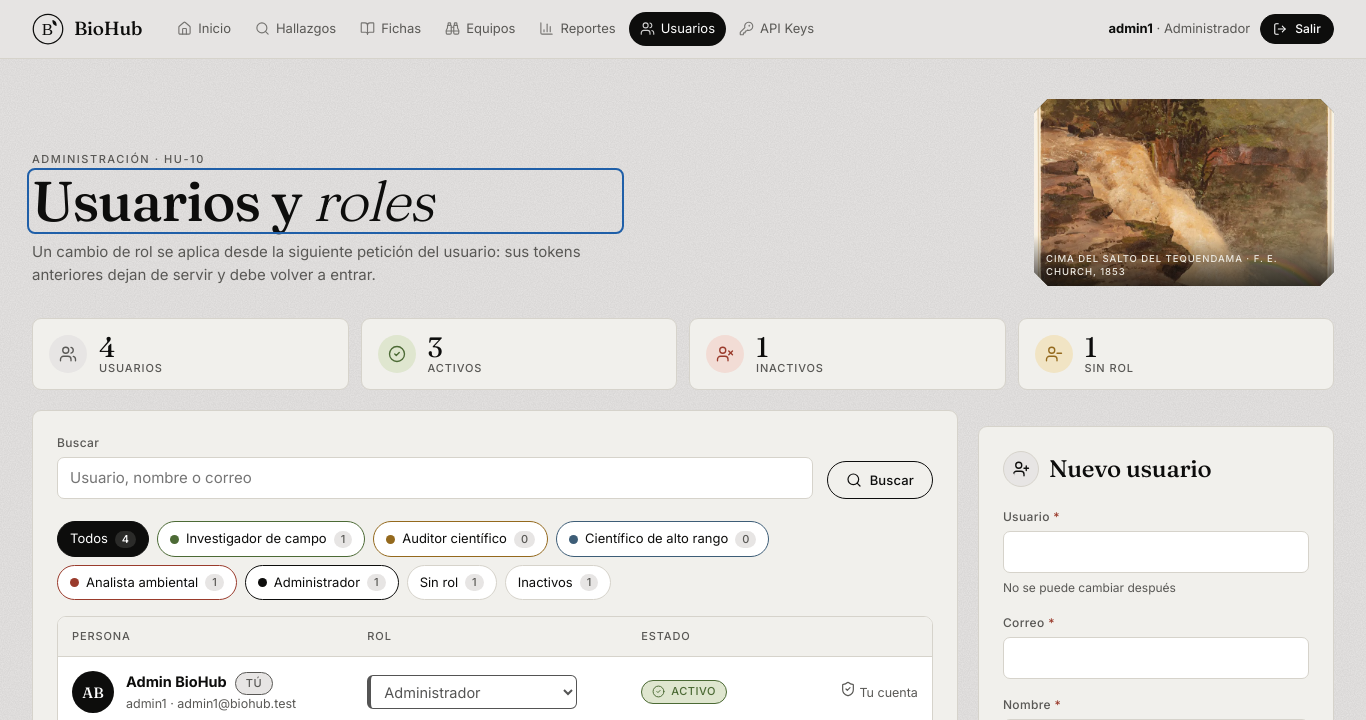
Test: Usuarios y roles (HU-10) › los filtros muestran solo los inactivos o solo un rol
Click the button "Inactivos 1": [558, 583] box [505, 565, 611, 600]
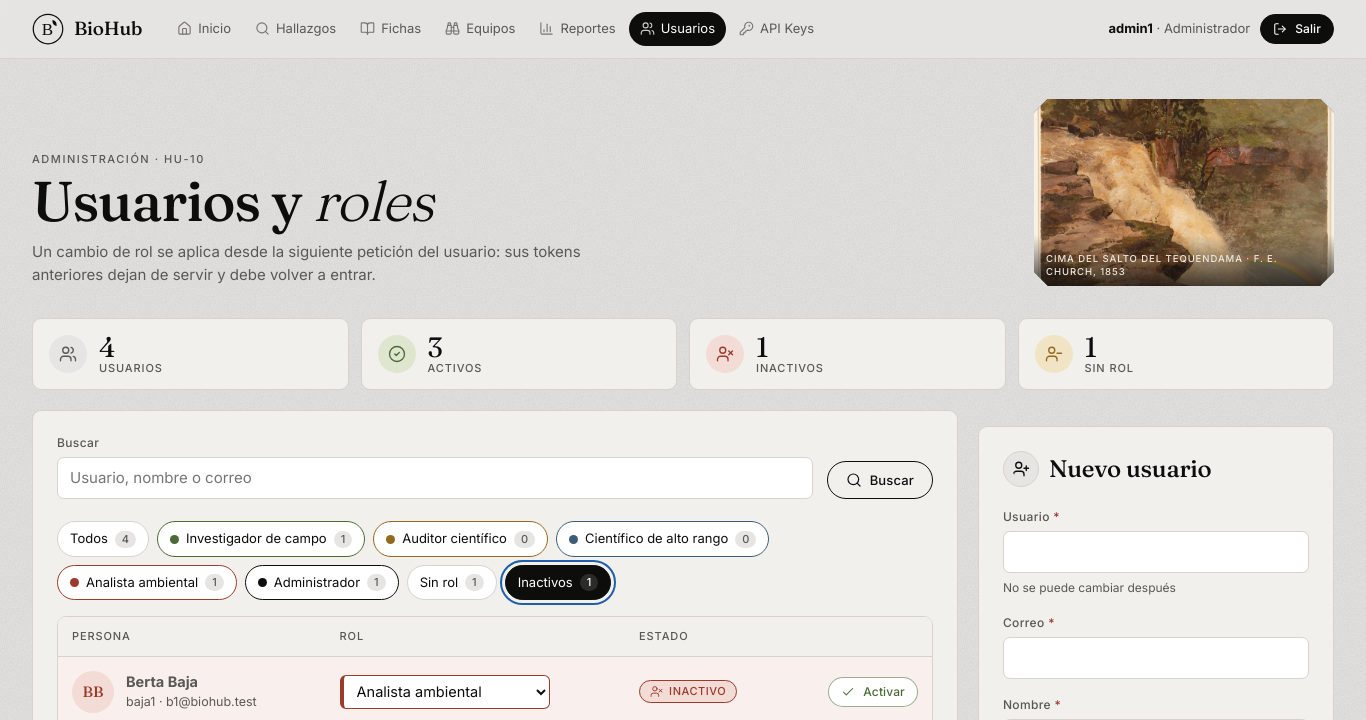
Expected: the text "investigador1 ·" is not shown
Expected: the button "Inactivos 1" is pressed, [505, 565, 611, 600]
Click the button "Sin rol 1": [452, 583] box [407, 565, 497, 600]
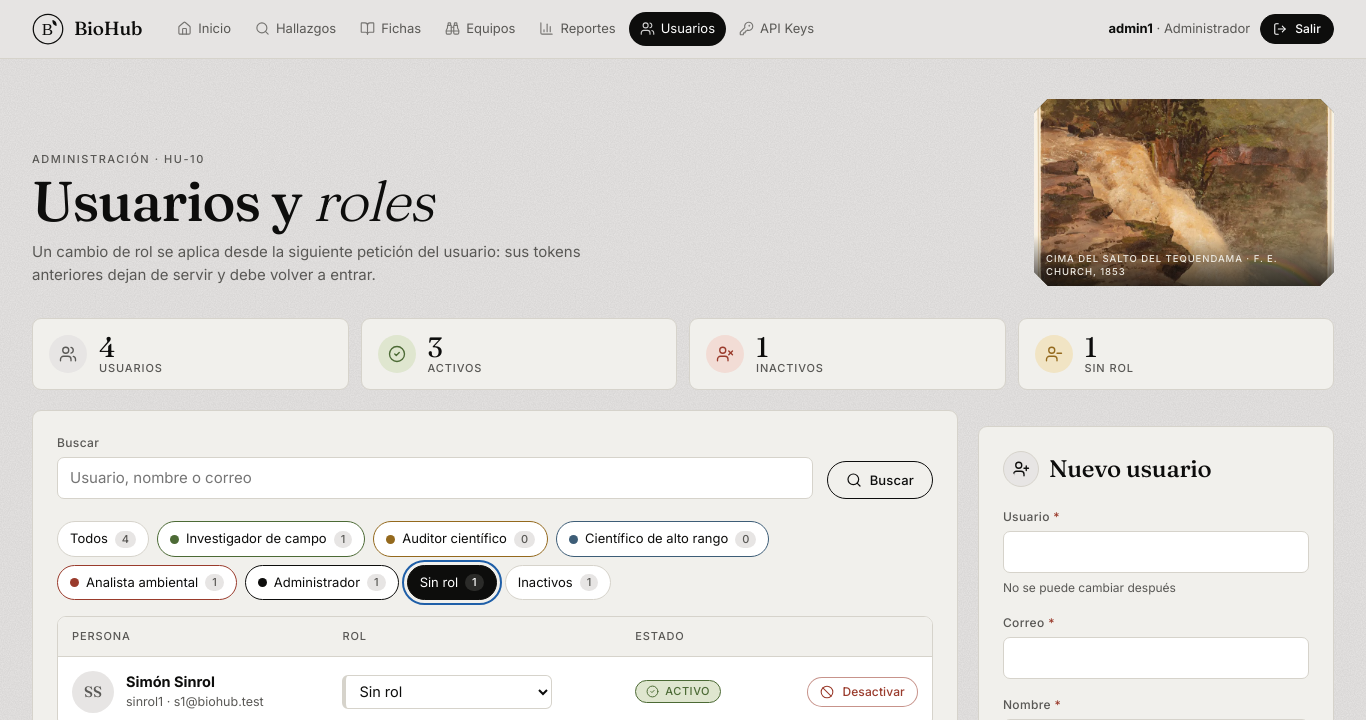
Expected: the text "sinrol1 · s1@biohub.test" is shown, [126, 693, 264, 712]
Expected: the text "baja1 ·" is gone
